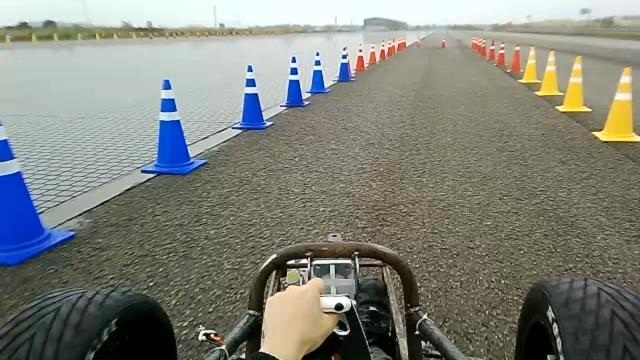blue cone: (0, 123, 76, 266), (140, 78, 208, 175), (231, 64, 274, 131), (280, 56, 310, 108), (306, 51, 330, 93), (332, 46, 355, 82)
red cone: (338, 47, 356, 77), (507, 44, 522, 73), (355, 43, 368, 71), (494, 41, 507, 67), (368, 42, 378, 64)
yellow cone: (592, 65, 640, 142), (555, 55, 592, 112), (534, 50, 564, 96), (517, 45, 541, 84)
